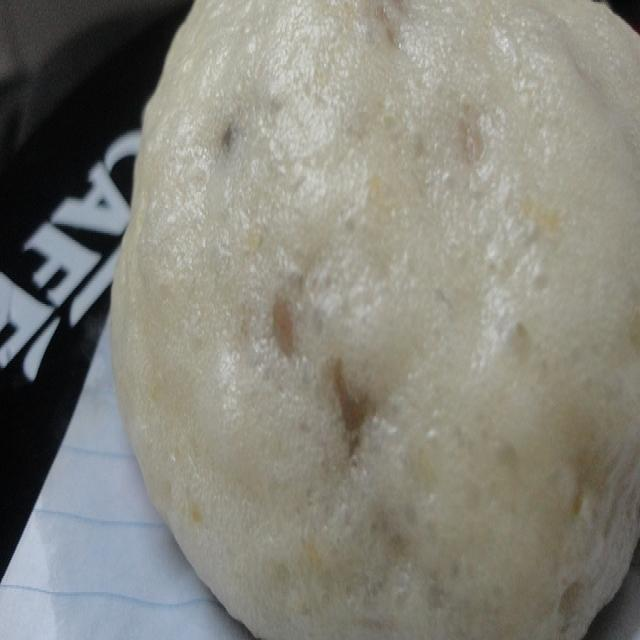带馅早点: (100, 18, 634, 624)
